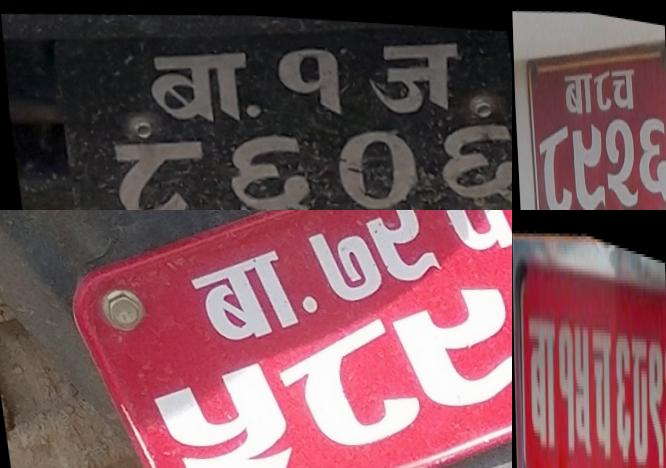0: (330, 119, 428, 210)
1: (269, 33, 356, 123), (556, 305, 576, 460)
2: (601, 107, 640, 210)
3: (662, 328, 666, 464)
5: (140, 346, 294, 468), (572, 312, 593, 452)
6: (219, 125, 320, 210), (435, 112, 512, 210), (634, 103, 666, 206), (614, 315, 632, 461)
7: (297, 217, 383, 303)
8: (265, 305, 424, 451), (105, 129, 216, 210), (534, 114, 572, 210), (630, 318, 649, 461), (591, 62, 612, 112)
9: (379, 268, 512, 410), (358, 210, 439, 282), (568, 114, 606, 210), (646, 323, 664, 462)
ba: (173, 237, 306, 348), (140, 38, 256, 130), (528, 306, 555, 454), (560, 62, 594, 121)
cha: (590, 310, 612, 462), (610, 57, 636, 114)
ja: (356, 24, 474, 120)
pa: (419, 210, 512, 255)
